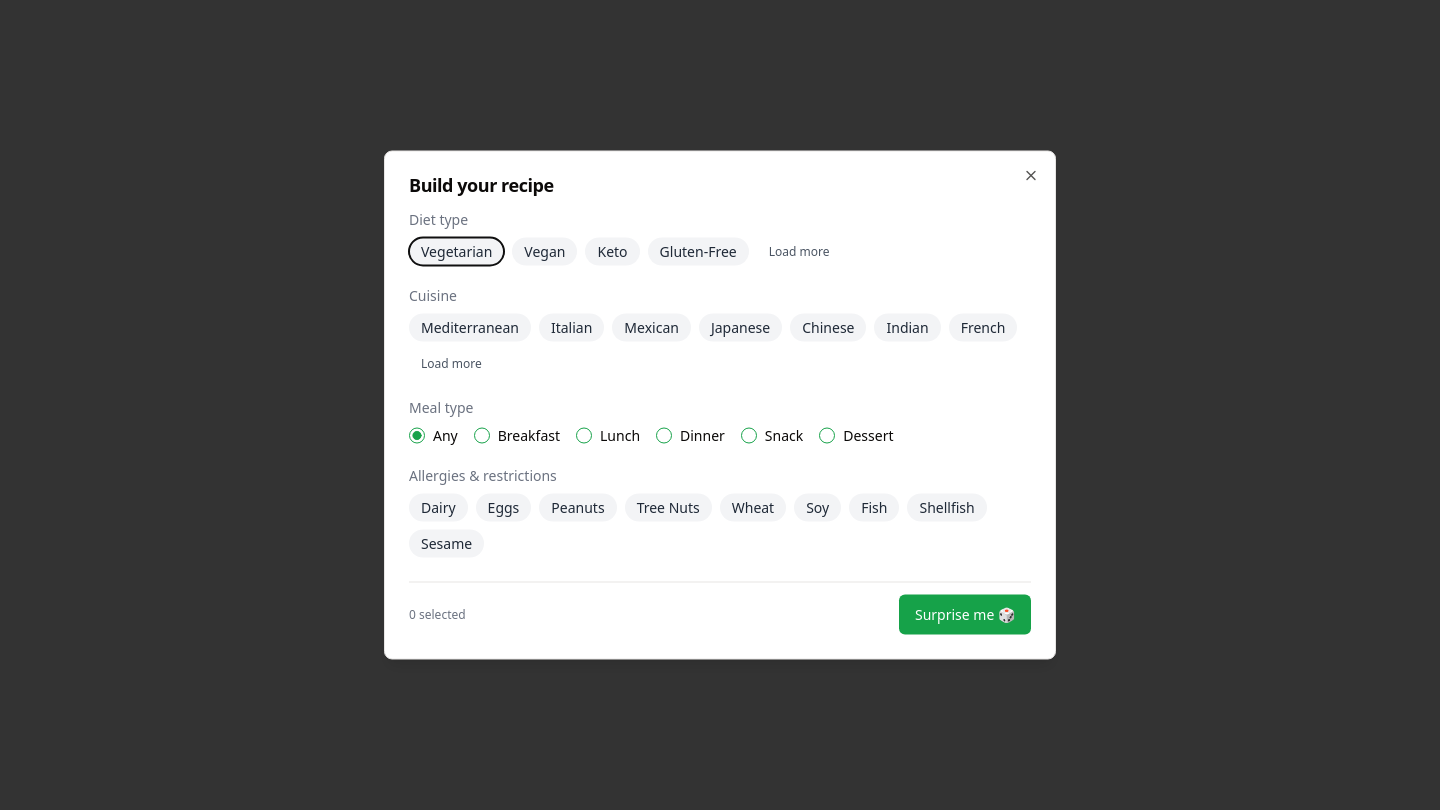
Scenario: GuidedRecipeModal › reveals more diet options in steps and collapses with See less
Check: the text "High Protein" is not shown
# Diet is the first section, so its "Load more" is the first such button.
Click the 1st button "Load more" at (799, 252), box x1=757 y1=238 x2=842 y2=266
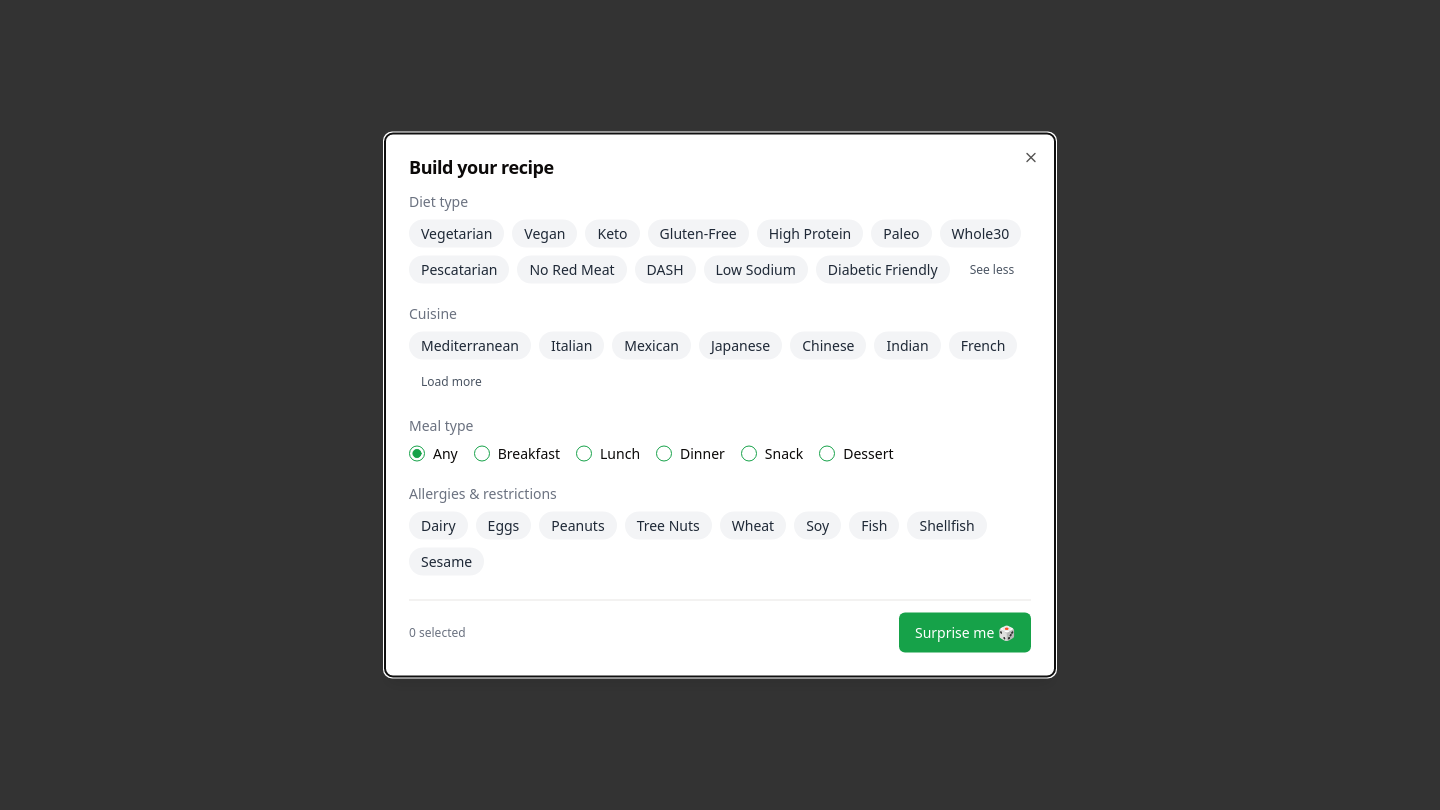
Check: the button "High Protein" is shown, box x1=757 y1=220 x2=863 y2=248
# Fully expanded now → "See less" collapses back to the initial 4.
Click the button "See less" at (992, 270), box x1=958 y1=256 x2=1026 y2=284
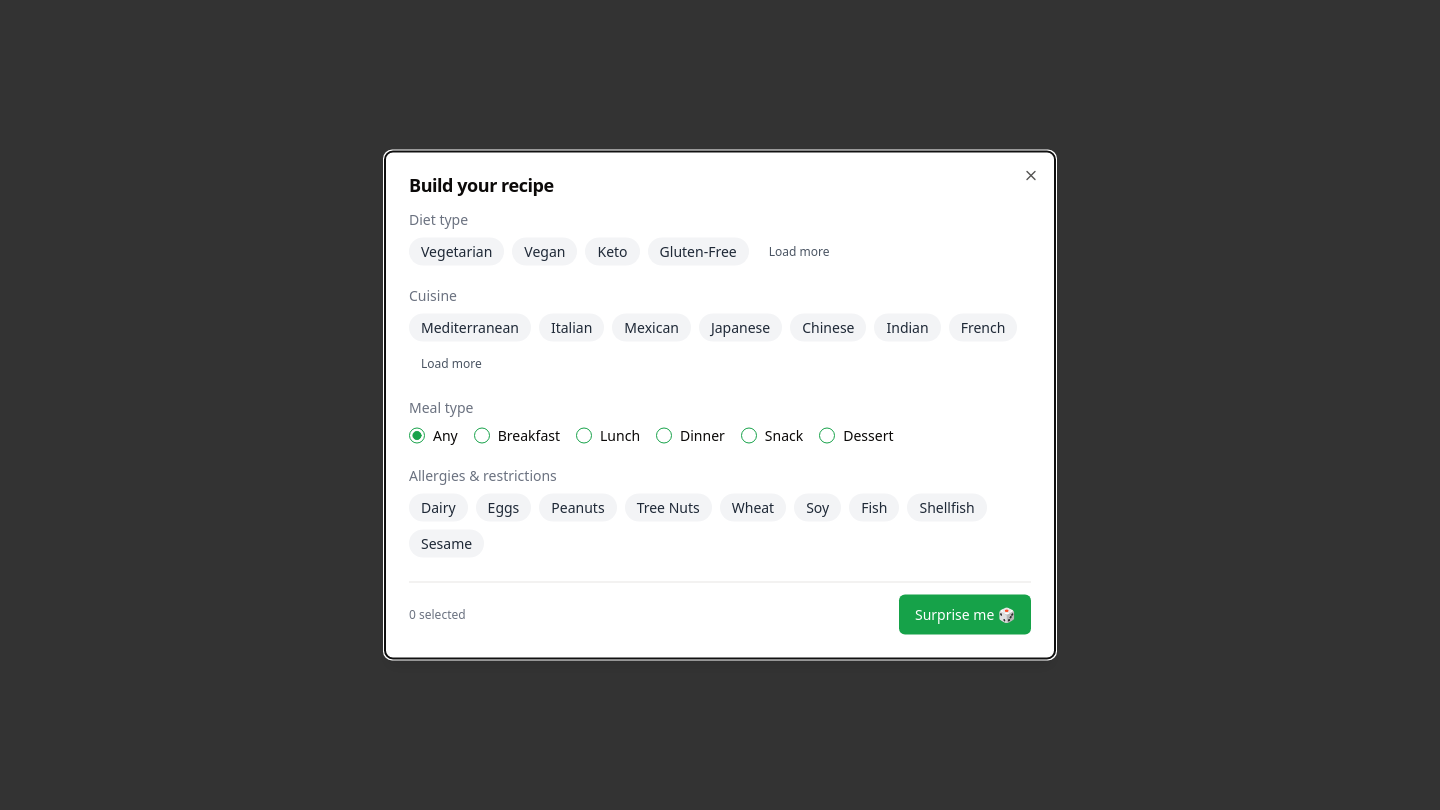
Check: the button "High Protein" is gone
